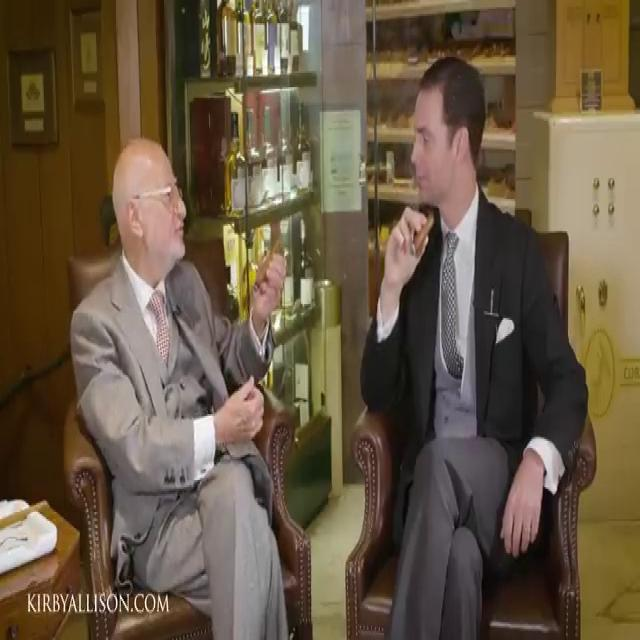Smooking: (409, 212, 439, 263)
